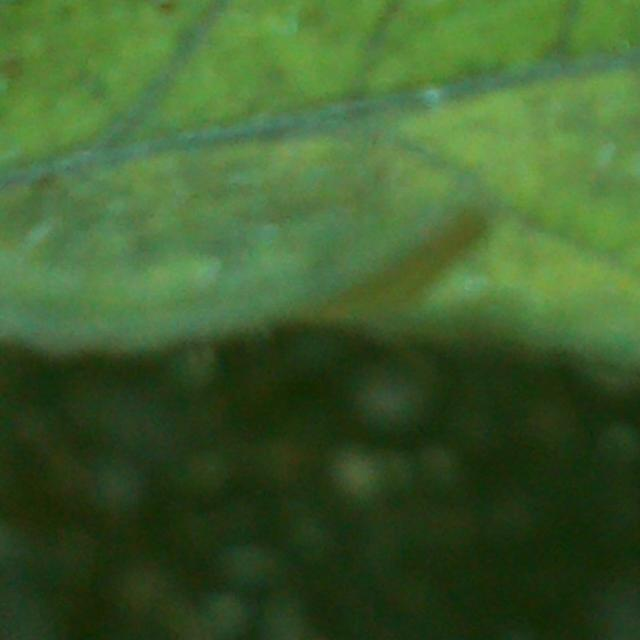Tomato mold leaf: (0, 0, 640, 584)
